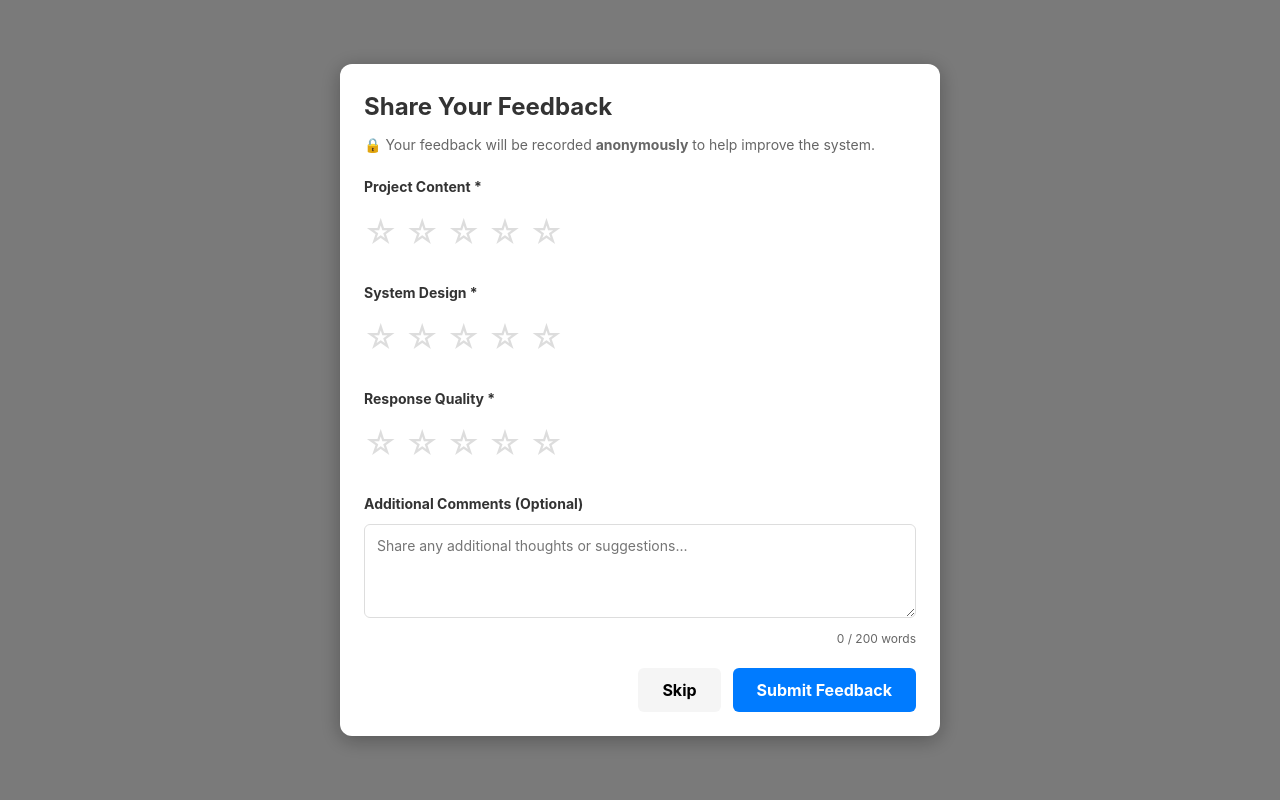
Scenario: FeedbackModal › Error Handling › shows error for duplicate submission (409)
This screenshot has width=1280, height=800.
Click the 5th text "☆" at (546, 232), box left=530, top=207, right=563, bottom=258
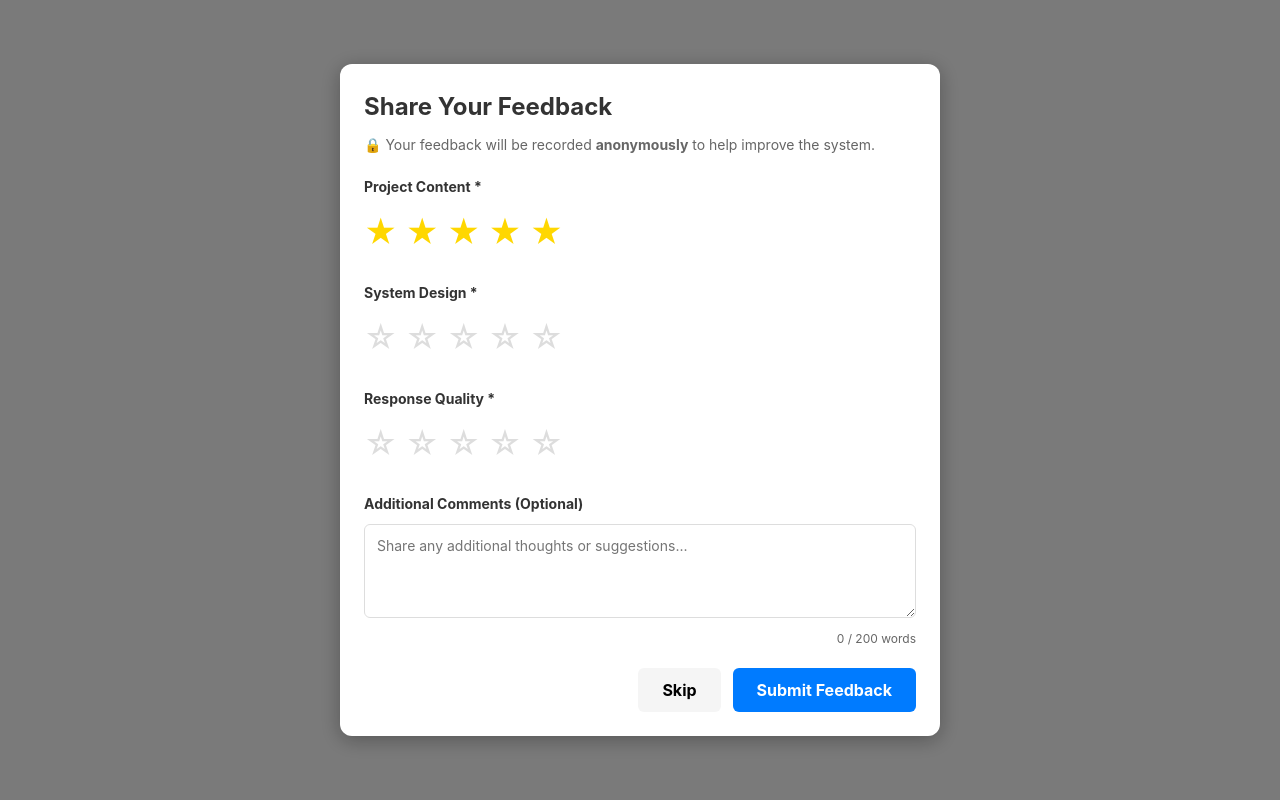
Click the 5th text "☆" at (546, 338), box left=530, top=312, right=563, bottom=364
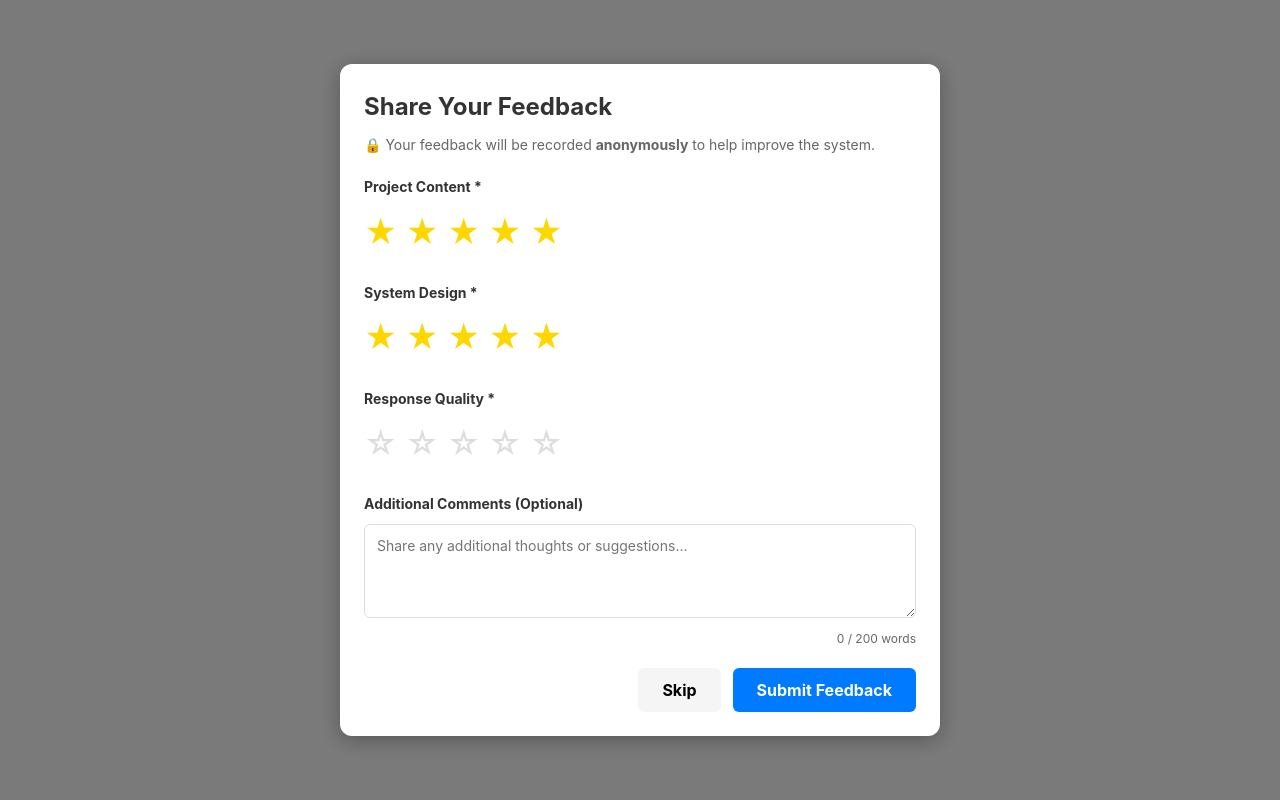
Click the 5th text "☆" at (546, 444), box left=530, top=418, right=563, bottom=469
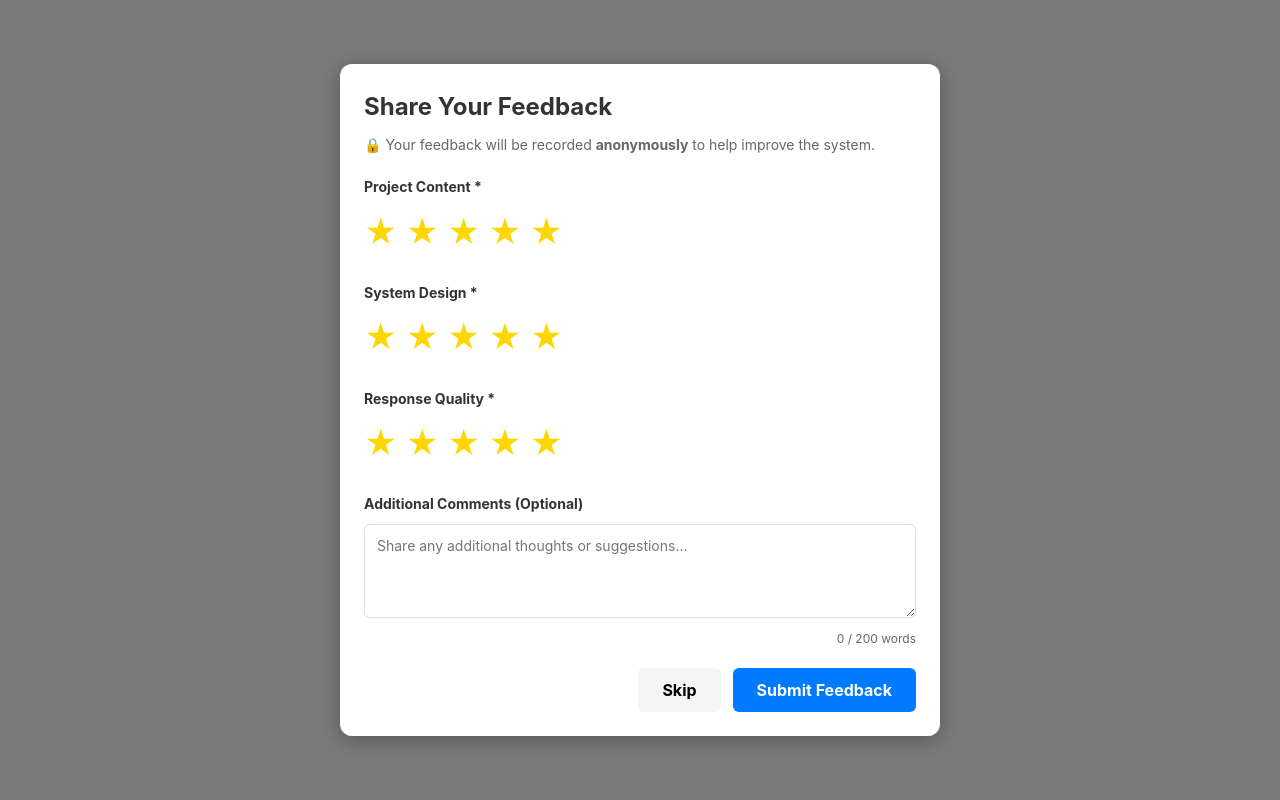
Click the button "Submit Feedback" at (824, 690), box left=733, top=668, right=916, bottom=712
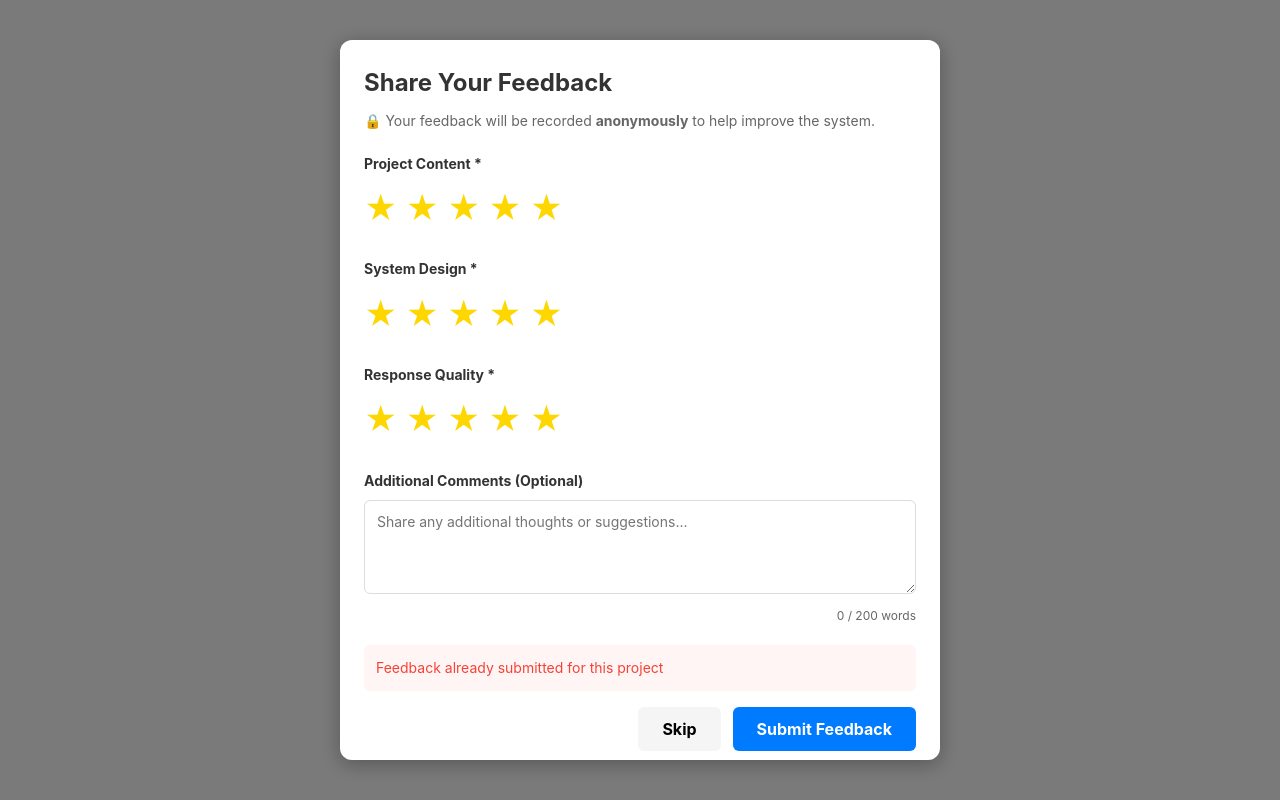
Expected: the text "Feedback already submitted for this project" is shown, left=364, top=645, right=916, bottom=691
